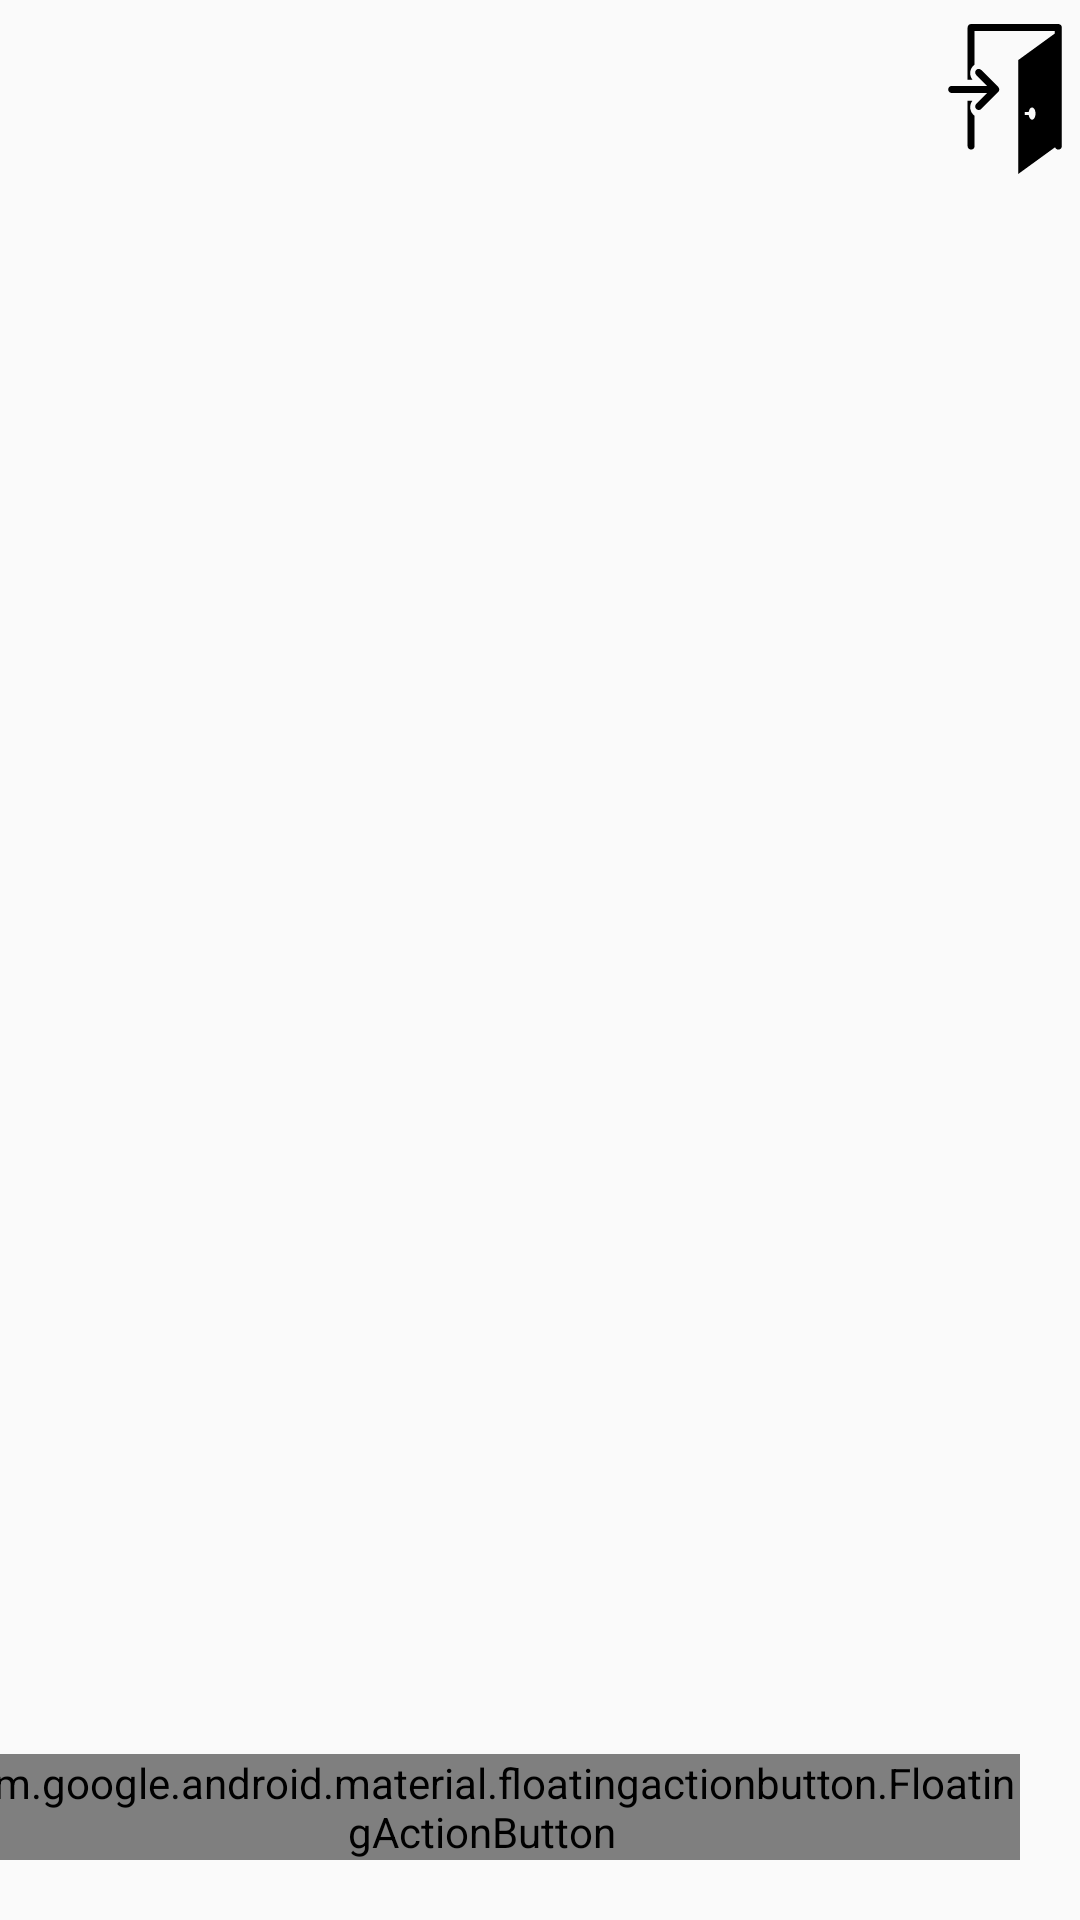

Where icons sit on this 1080 × 1920 app screen, as (x1, y1, x2, y2):
exit: (948, 24, 1062, 174)
